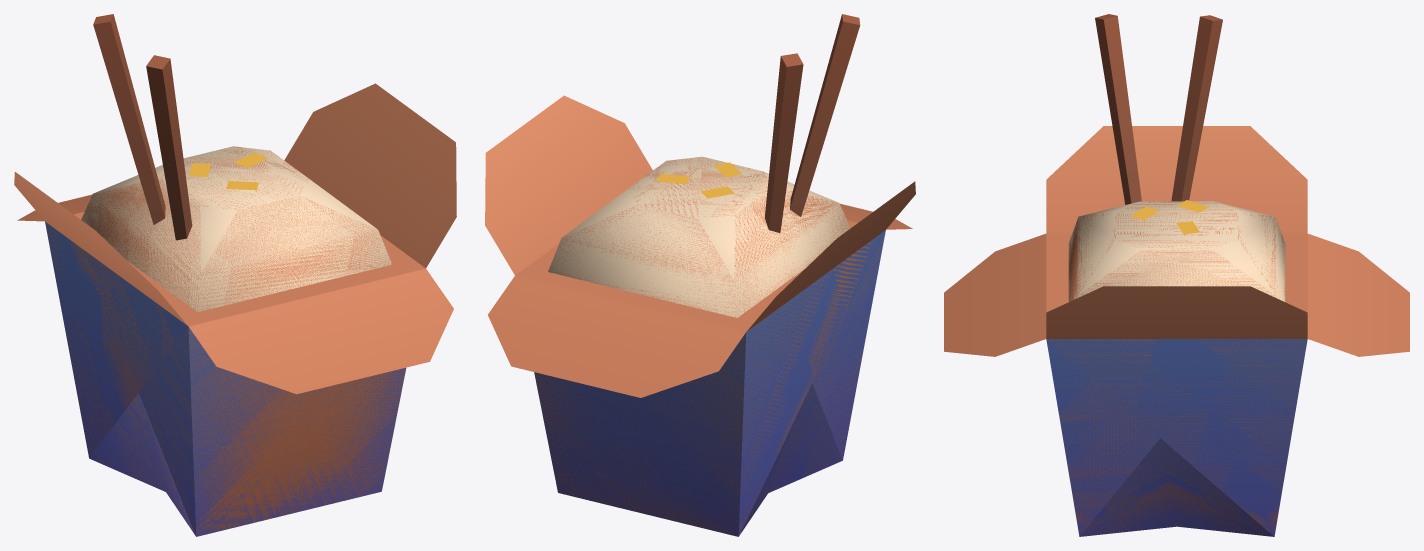
File: chinese.glb
3 views of the same model, side by side, from view 1: azimuth 30°, elevation 25°; view 2: azimuth 150°, elevation 25°; view 3: azimuth 270°, elevation 25° (orthographic). The views are drawn at different scales.
Visible parts, largest first — view 1: chinese, chopstick, chopstick.001; view 2: chinese, chopstick.001, chopstick; view 3: chinese, chopstick, chopstick.001.
Part boxes in pixels (x1,y1,x2,y2): chinese: (14,83,456,536); chopstick: (93,14,165,224); chopstick.001: (146,55,192,240); chinese: (485,95,915,536); chopstick.001: (790,14,860,216); chopstick: (764,53,803,232); chinese: (944,126,1409,536); chopstick: (1171,15,1222,201); chopstick.001: (1095,14,1141,204).
Bounding box in the file's own units: 0.4538 × 0.5671 × 0.5575.
1 material, 1 textured.
